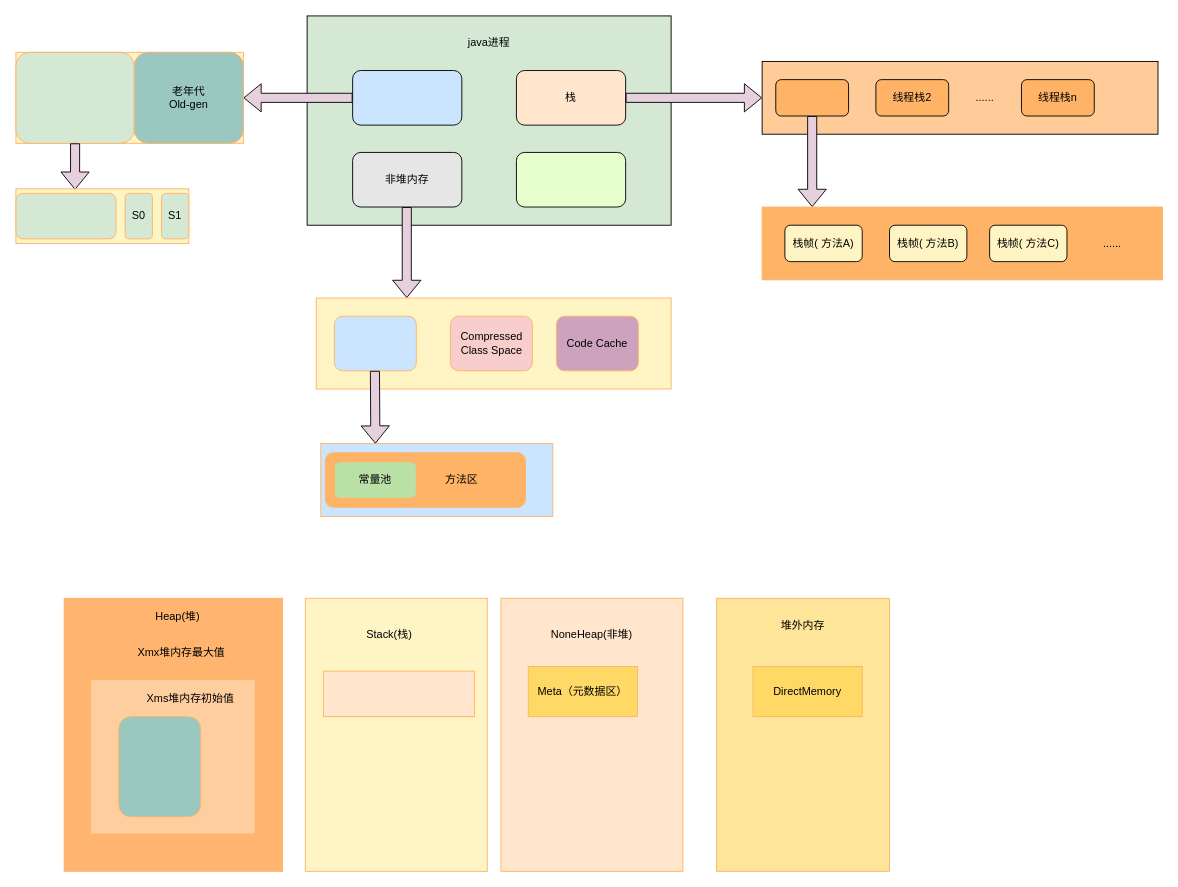
Some shapes in this 1178 by 887 pixel diagram are drawn without their labels. Here are the shapes that lost their labels. From the top down, the centre of each, then its label:
At point (74, 97): "年轻代 Young-gen".
At point (407, 97): "堆内存".
At point (812, 97): "线程栈1".
At point (571, 179): "JVM自身".
At point (65, 215): "新生儿 Eden-Space".
At point (375, 343): "元数据区 Metaspace".
At point (399, 693): "Xss 每个线程可使用内存大小".
At point (159, 766): "Xmn 新生代大小".
